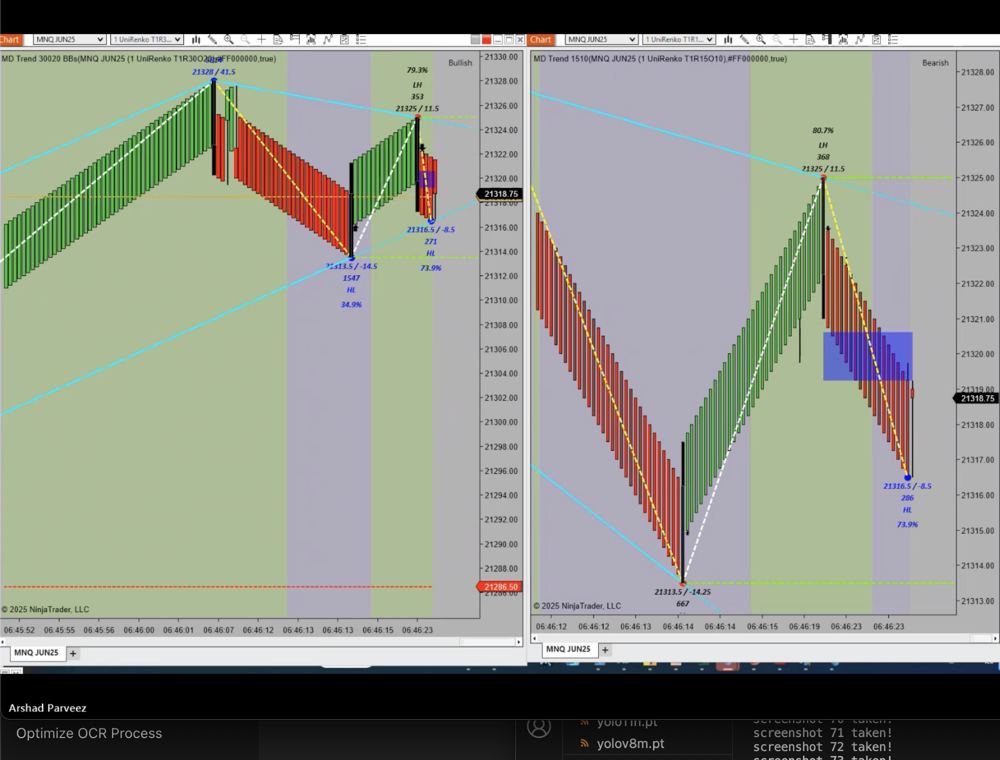HL: (422, 244, 443, 264), (896, 503, 919, 518), (341, 284, 364, 298)
LH: (407, 80, 433, 95), (813, 138, 836, 152)
